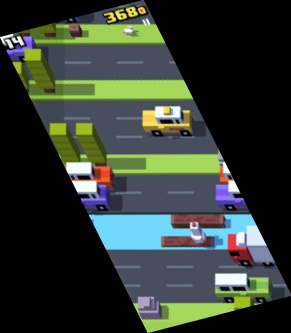car: (215, 273, 272, 304), (58, 180, 111, 212), (219, 160, 274, 190), (142, 105, 193, 137), (61, 160, 115, 190), (214, 178, 263, 211), (1, 32, 35, 62)
duck: (189, 221, 208, 245)
log: (171, 213, 225, 228), (159, 234, 214, 248)
rock: (137, 296, 162, 320)
stump: (68, 23, 82, 38)
tree: (23, 48, 58, 94), (75, 122, 108, 169), (49, 123, 78, 169), (5, 59, 30, 97), (38, 10, 58, 39), (13, 8, 31, 39), (233, 297, 253, 323)
truck: (228, 224, 291, 267)
water: (84, 213, 271, 250)
